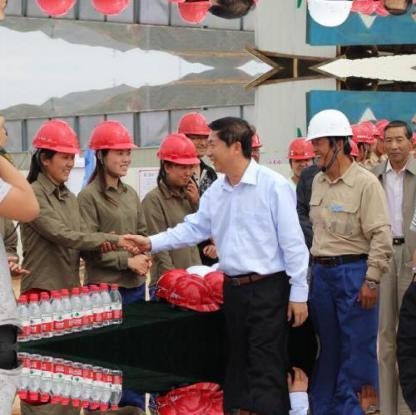helmet: (30, 116, 85, 153), (89, 118, 139, 154), (304, 109, 353, 142), (156, 133, 201, 165), (177, 111, 212, 136), (286, 135, 315, 160), (346, 119, 371, 141), (358, 118, 379, 135), (343, 135, 358, 156), (374, 118, 388, 140), (247, 129, 260, 150)
